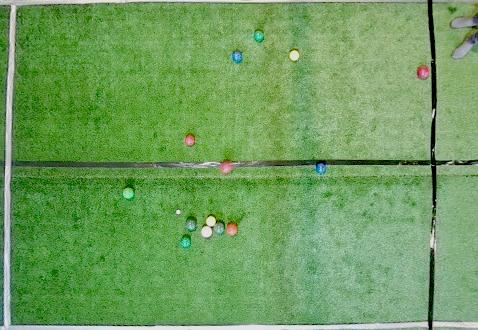blue: (232, 51, 243, 63), (316, 162, 326, 174)
green: (123, 187, 134, 199), (180, 236, 191, 248), (186, 218, 197, 230), (214, 222, 225, 234), (254, 31, 265, 42)
red: (416, 65, 430, 79), (220, 161, 233, 174), (226, 223, 238, 236), (200, 226, 212, 238), (185, 135, 195, 147)
vline: (426, 0, 477, 329), (0, 0, 20, 329)
white: (176, 210, 180, 214)
yellow: (289, 50, 300, 61), (206, 216, 216, 227)
